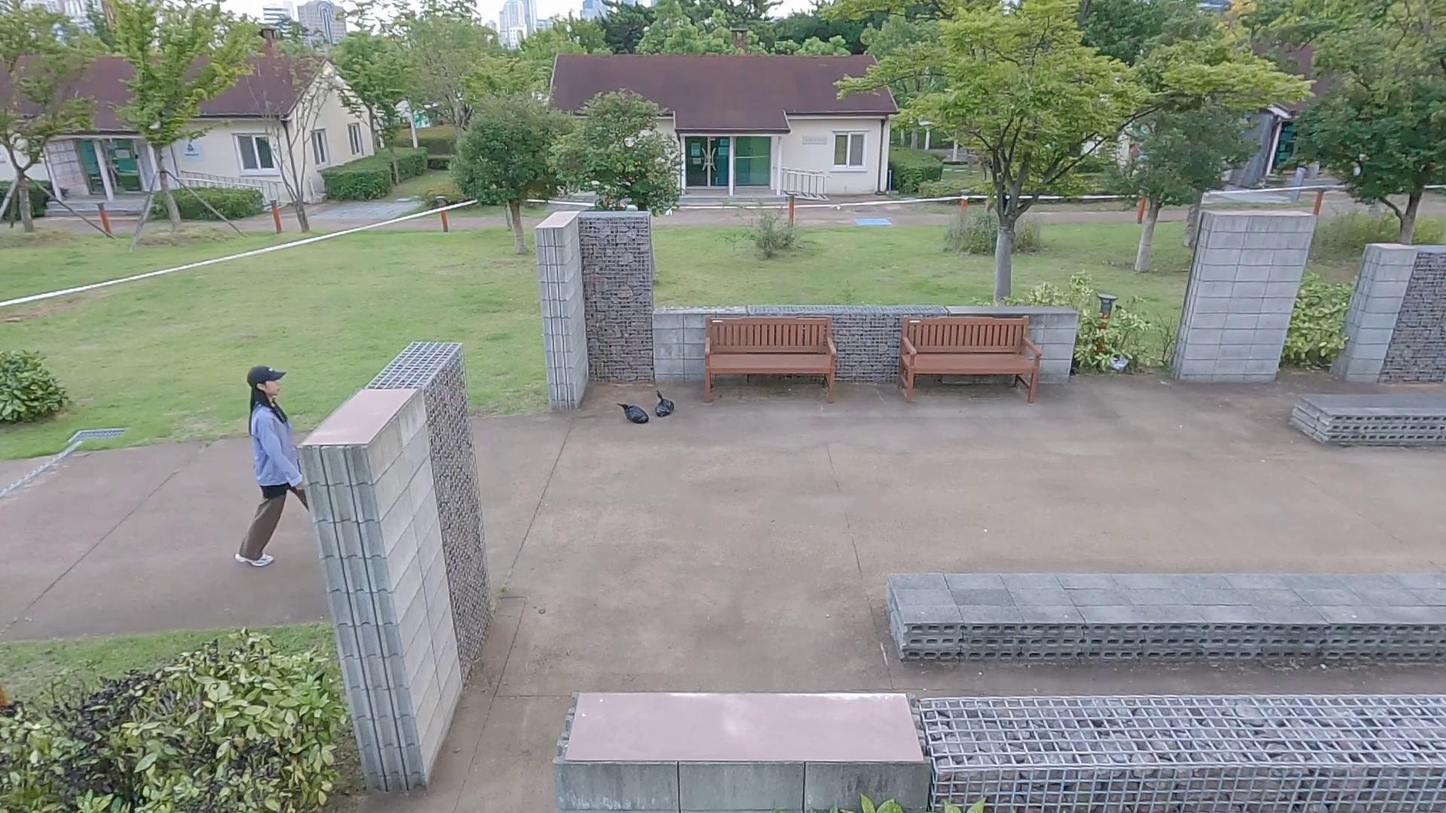person: (235, 363, 327, 570)
trash: (617, 400, 650, 424), (653, 389, 675, 418)
